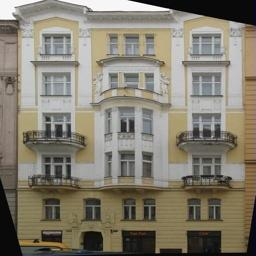building: (14, 0, 243, 256)
